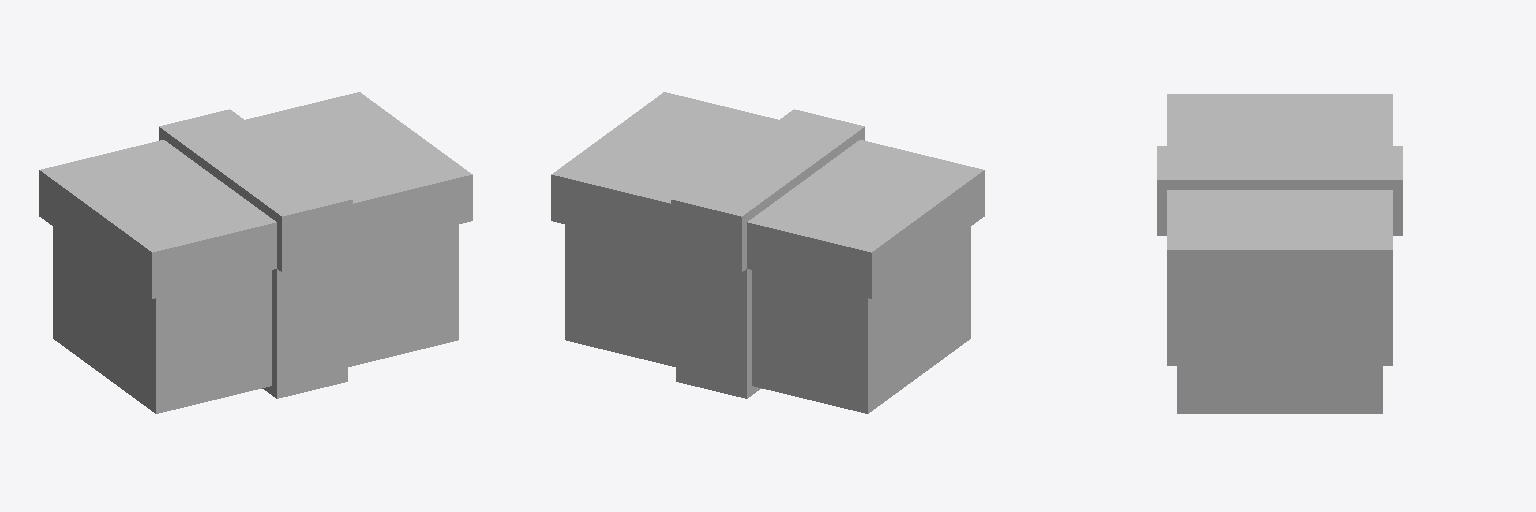
The model's file is Sushi 3.obj.
3 views of the same model, side by side, from view 1: azimuth 30°, elevation 25°; view 2: azimuth 150°, elevation 25°; view 3: azimuth 270°, elevation 25° (orthographic).
Visible parts, largest first — view 1: object 1; view 2: object 1; view 3: object 1.
Part boxes in pixels (x1,y1,x2,y2): object 1: (39, 92, 472, 413); object 1: (551, 92, 984, 413); object 1: (1157, 94, 1402, 413).
Size of the model in its own units: 3.6 by 2 by 2.4.